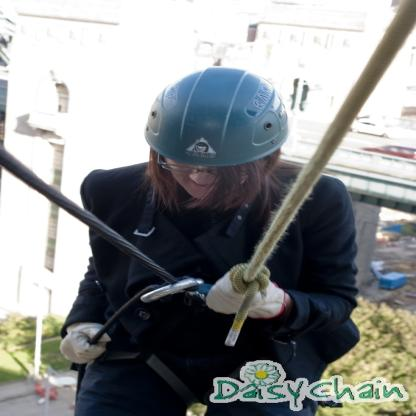Helmet: (143, 64, 289, 179)
